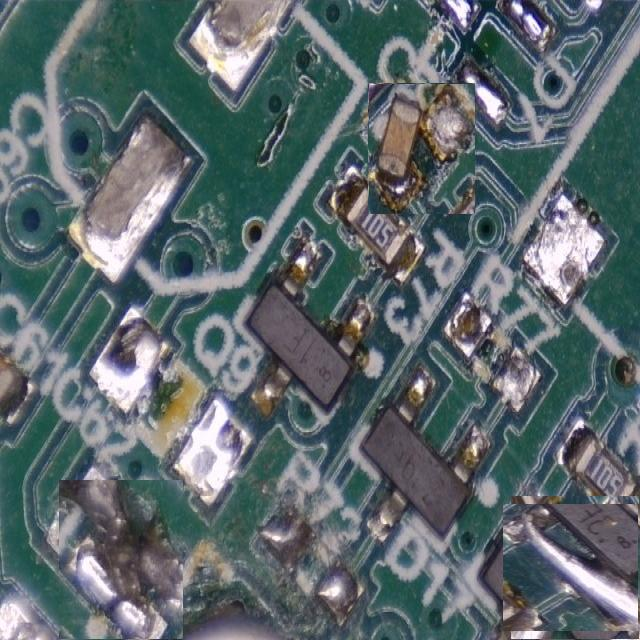Incorrect_installation: (368, 83, 475, 214)
Short_circuit: (58, 479, 183, 640), (503, 504, 639, 630)
